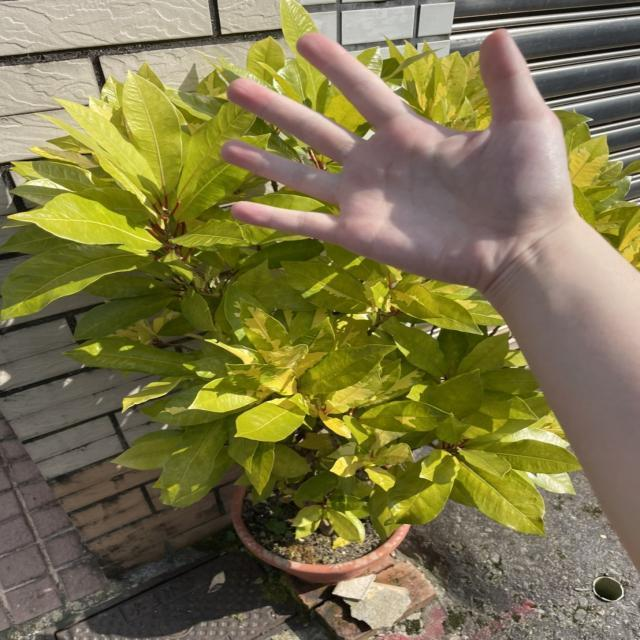hand: (199, 16, 592, 288)
